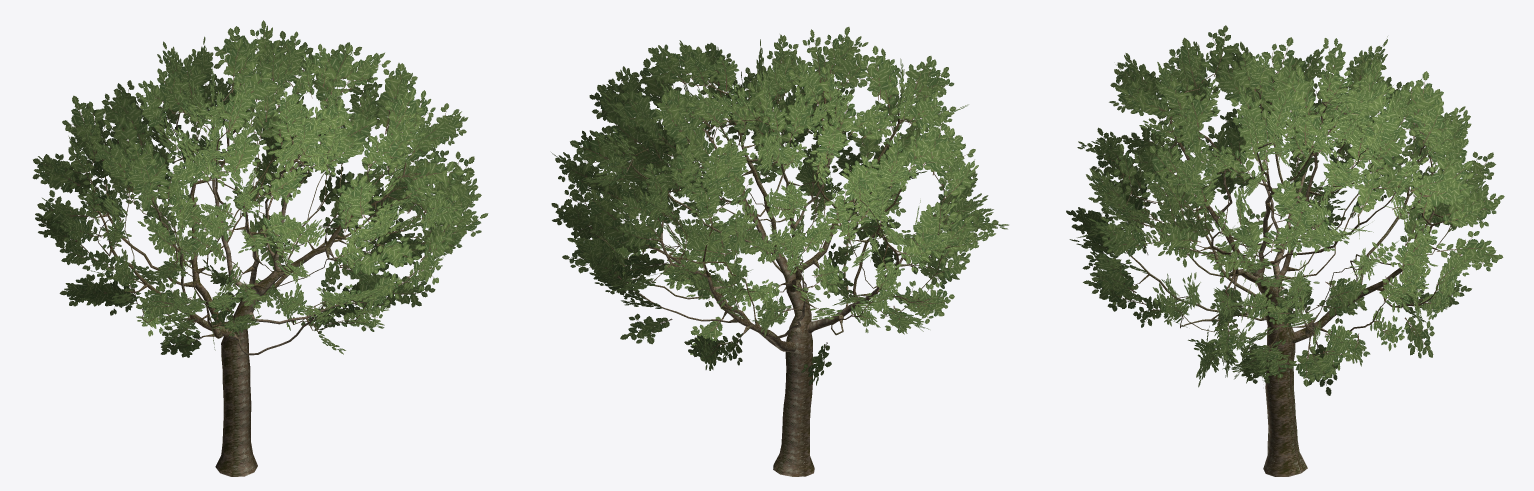
The model's file is Scenery_Tree.fbx.
3 views of the same model, side by side, from view 1: azimuth 30°, elevation 25°; view 2: azimuth 150°, elevation 25°; view 3: azimuth 270°, elevation 25° (orthographic). The views are drawn at different scales.
Parts seen in each view (by area): view 1: Scenery_Tree_LOD0; view 2: Scenery_Tree_LOD0; view 3: Scenery_Tree_LOD0.
Boxes of the visible parts, <box> form: Scenery_Tree_LOD0: <box>32,20,488,476</box>; Scenery_Tree_LOD0: <box>551,27,1008,476</box>; Scenery_Tree_LOD0: <box>1066,25,1504,476</box>.
Size of what is drawn, in the model's own units: 15.87 by 14.71 by 14.49.
